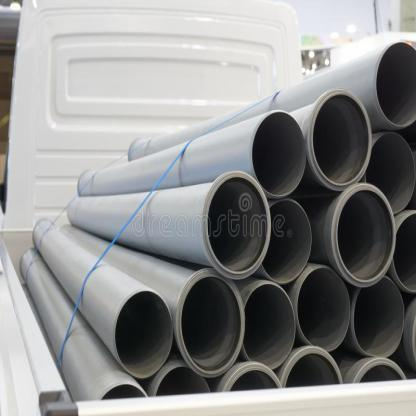pipe: (200, 171, 272, 279), (176, 268, 246, 378), (332, 183, 396, 286), (308, 88, 372, 190), (114, 289, 172, 378), (251, 111, 306, 197), (297, 266, 351, 352), (242, 283, 296, 369), (260, 200, 312, 284), (364, 132, 415, 214), (353, 277, 404, 357), (376, 40, 416, 128), (281, 345, 343, 385), (222, 363, 283, 393), (154, 364, 210, 396), (394, 212, 416, 293), (352, 358, 406, 383)
